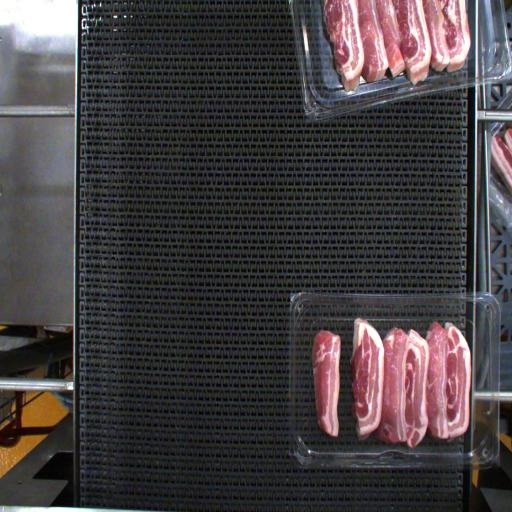unsealed: (293, 287, 354, 451)
